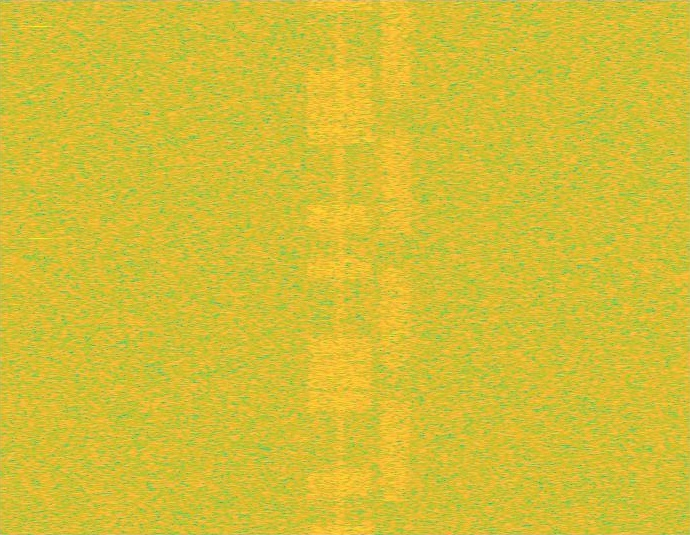5G: (379, 0, 413, 534)
DSSS: (335, 0, 345, 534)
LTE: (305, 0, 374, 534)
Radar: (33, 0, 47, 534)
